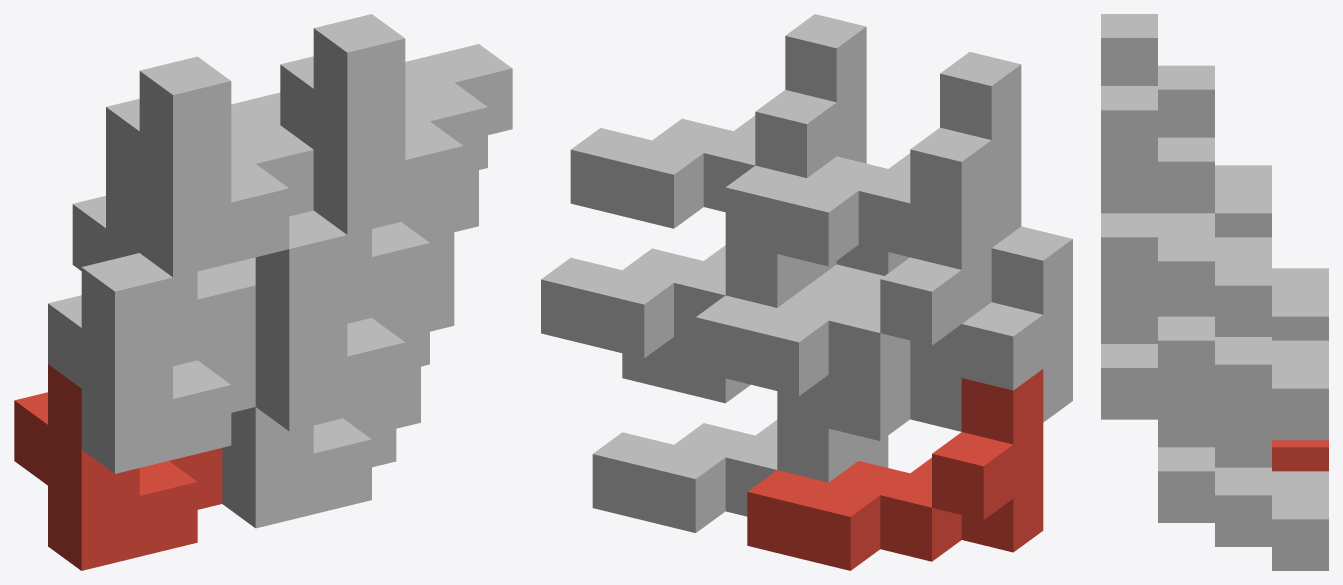
File: tiling.obj
The picture shows the model from 3 angles, left to right: view 1: azimuth 30°, elevation 25°; view 2: azimuth 150°, elevation 25°; view 3: azimuth 270°, elevation 25°; orthographic projection. The views are drawn at different scales.
Parts seen in each view (by area): view 1: copy_1_domain_8, copy_1_domain_4, copy_1_domain_2, copy_1_domain_6, copy_1_domain_1, copy_1_domain_5, copy_1_domain_3, copy_1_domain_7; view 2: copy_1_domain_1, copy_1_domain_4, copy_1_domain_3, copy_1_domain_8, copy_1_domain_2, copy_1_domain_5, copy_1_domain_7, copy_1_domain_6; view 3: copy_1_domain_8, copy_1_domain_7, copy_1_domain_5, copy_1_domain_6, copy_1_domain_4, copy_1_domain_3, copy_1_domain_1.
Boxes of the visible parts, box(x1,y1,x2,y2) form: copy_1_domain_8: box(280, 14, 512, 234); copy_1_domain_4: box(106, 56, 313, 277); copy_1_domain_2: box(48, 253, 255, 473); copy_1_domain_6: box(227, 210, 454, 431); copy_1_domain_1: box(14, 364, 222, 570); copy_1_domain_5: box(222, 366, 420, 528); copy_1_domain_3: box(72, 168, 255, 366); copy_1_domain_7: box(347, 170, 478, 323); copy_1_domain_1: box(747, 369, 1043, 570); copy_1_domain_4: box(725, 52, 1021, 266); copy_1_domain_3: box(695, 194, 991, 396); copy_1_domain_8: box(570, 14, 866, 228); copy_1_domain_2: box(777, 226, 1072, 440); copy_1_domain_5: box(592, 416, 888, 532); copy_1_domain_7: box(541, 241, 836, 358); copy_1_domain_6: box(622, 245, 909, 403); copy_1_domain_8: box(1101, 86, 1271, 336); copy_1_domain_7: box(1158, 313, 1328, 440); copy_1_domain_5: box(1158, 443, 1328, 570); copy_1_domain_6: box(1101, 289, 1271, 467); copy_1_domain_4: box(1101, 14, 1271, 237); copy_1_domain_3: box(1272, 268, 1328, 340); copy_1_domain_1: box(1272, 440, 1328, 471).
Bounding box in the file's own units: 8 × 8 × 4.
